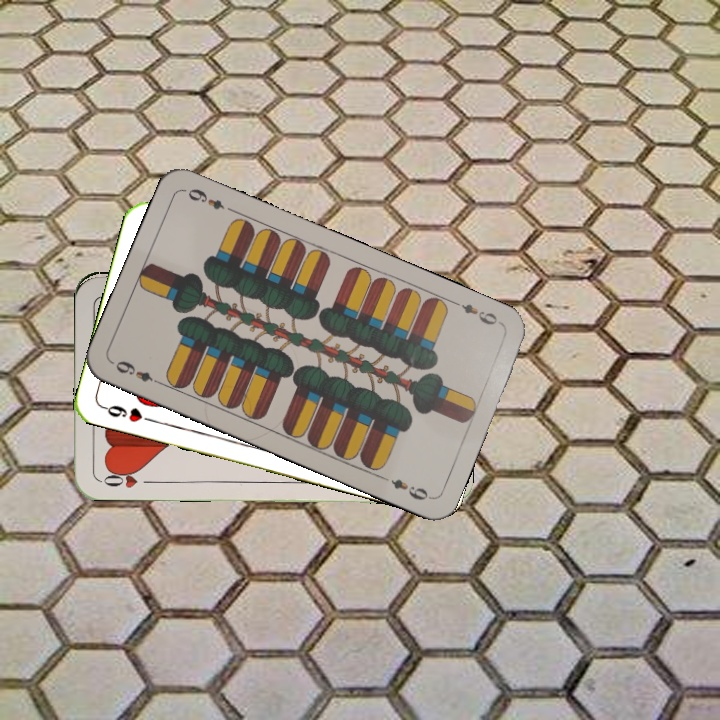E9: (450, 297, 506, 328), (111, 356, 165, 388)
H9: (98, 401, 156, 425)
HO: (97, 465, 157, 491)
